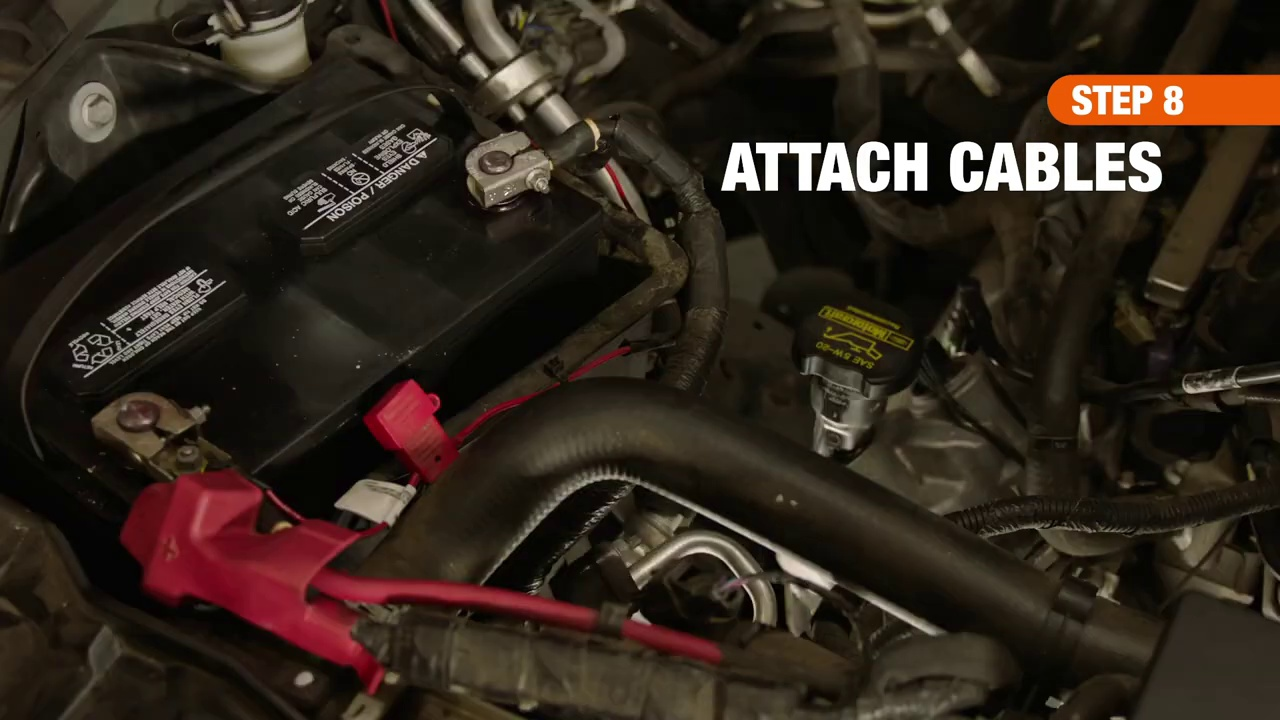battery: (24, 54, 601, 568)
neg_connected: (429, 102, 593, 208)
pos_connected: (59, 366, 291, 581)
